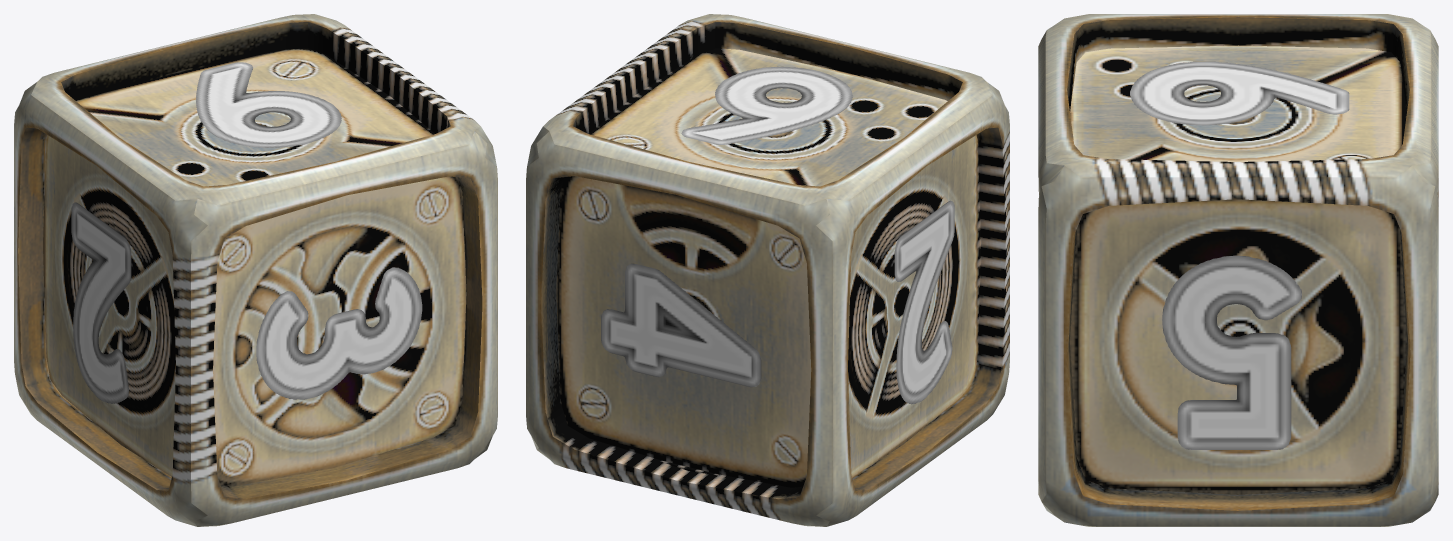
The picture shows the model from 3 angles, left to right: view 1: azimuth 30°, elevation 25°; view 2: azimuth 150°, elevation 25°; view 3: azimuth 270°, elevation 25°; orthographic projection. The views are drawn at different scales.
Parts seen in each view (by area): view 1: D6, D6_Numbers; view 2: D6, D6_Numbers; view 3: D6, D6_Numbers.
Part boxes in pixels (x1=…): D6: x1=14, y1=14, x2=497, y2=526; D6_Numbers: x1=71, y1=62, x2=422, y2=403; D6: x1=526, y1=14, x2=1009, y2=526; D6_Numbers: x1=601, y1=66, x2=954, y2=404; D6: x1=1038, y1=14, x2=1438, y2=526; D6_Numbers: x1=1130, y1=61, x2=1349, y2=449.
Bounding box in the file's own units: 1.4 × 1.4 × 1.4.
Materials: 2 (2 with a texture image).
